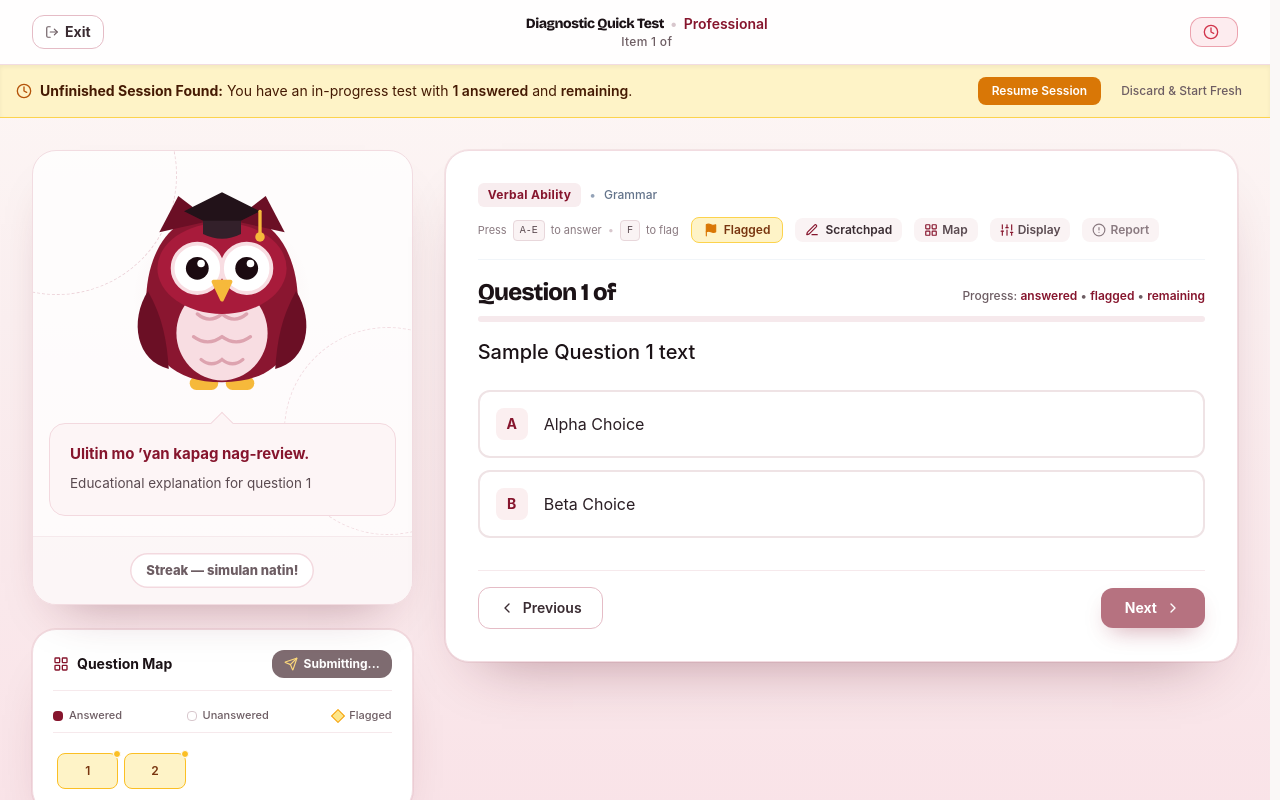
it: ExamRunner Component › detects existing active draft, shows resume banner, and resumes session on click
Expected: the text "Unfinished Session Found:" is shown, top-left (40, 82), bottom-right (223, 99)
Expected: the text "1 answered" is shown, top-left (452, 82), bottom-right (528, 99)
Click the button "Resume Session": [1039, 91] box top-left (978, 77), bottom-right (1101, 105)
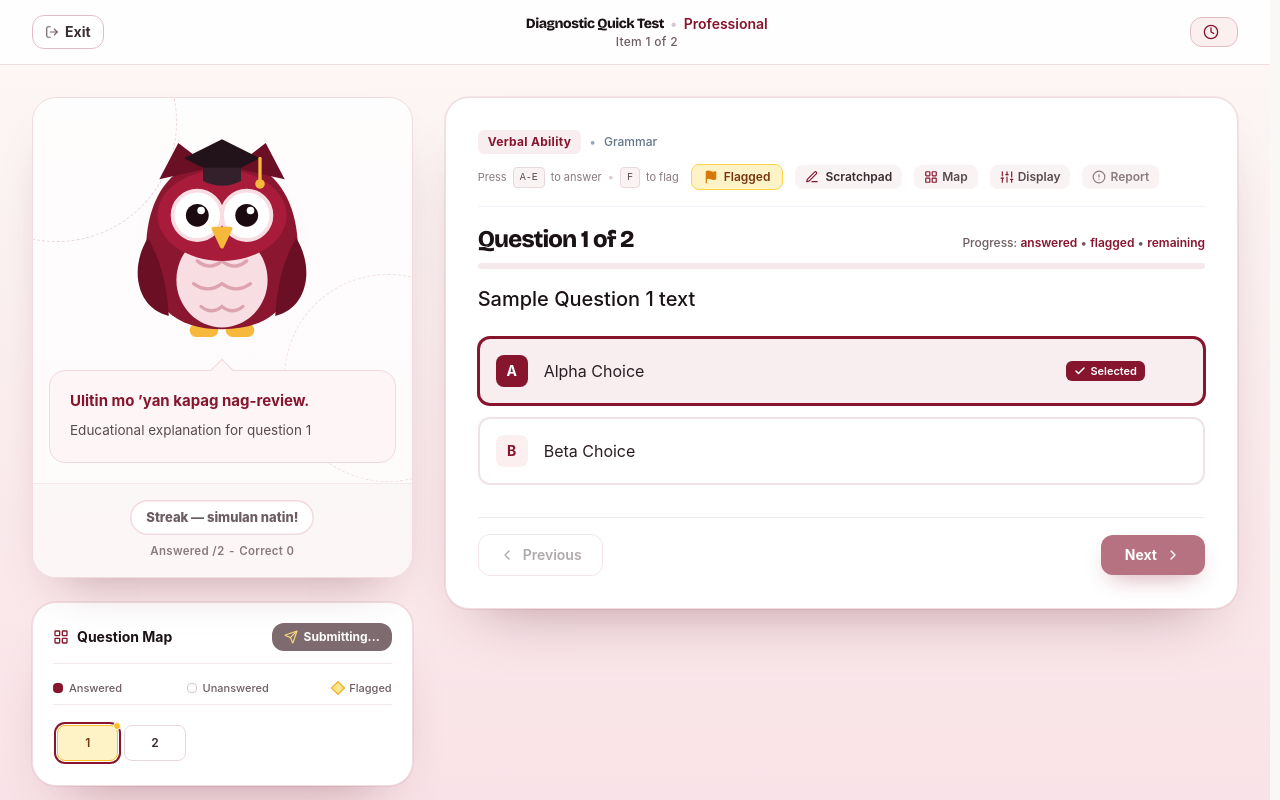
Expected: the button "Flagged" is shown, top-left (691, 164), bottom-right (784, 190)
Expected: the text "Unfinished Session Found" is gone
